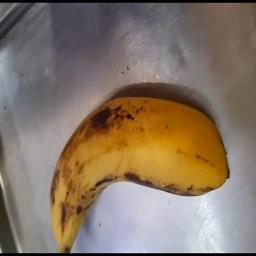Banana Semirotten: (54, 73, 235, 223)
